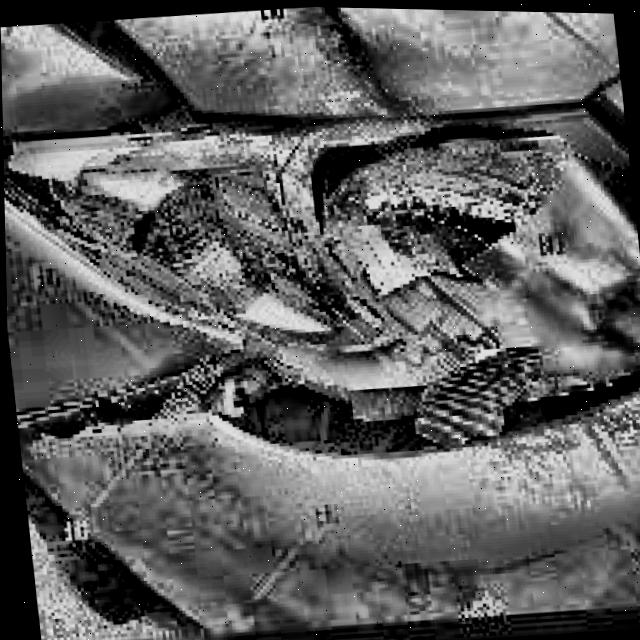head_lamp: (14, 85, 640, 471)
